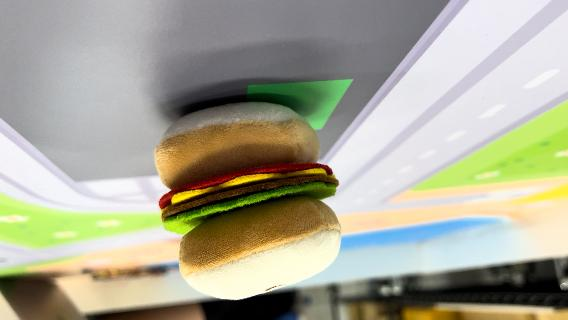sandwich: (151, 98, 345, 300)
